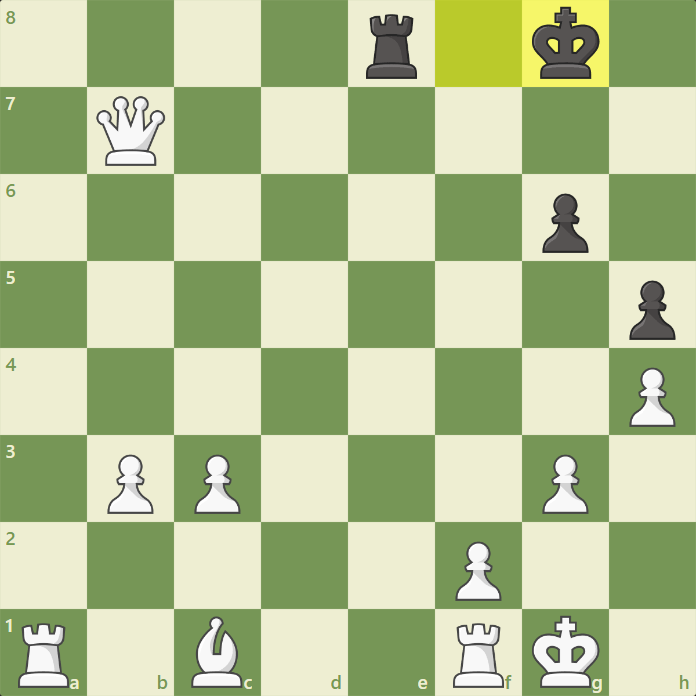B: (188, 615, 247, 691)
K: (529, 614, 603, 690)
P: (453, 539, 504, 604), (539, 452, 590, 517), (627, 366, 678, 431), (192, 452, 243, 517), (105, 453, 156, 518)
Q: (94, 93, 168, 169)
R: (451, 619, 507, 691), (16, 622, 73, 692)
k: (529, 4, 602, 81)
p: (626, 278, 679, 343), (537, 191, 590, 256)
r: (361, 12, 421, 83)
